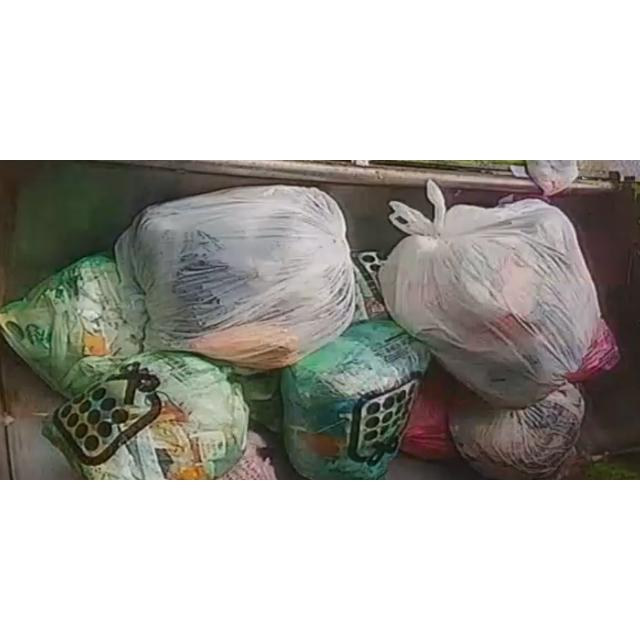general_trashbag: (42, 352, 249, 480)
other_trashbag: (380, 185, 604, 409), (115, 185, 355, 371), (449, 381, 585, 480)
